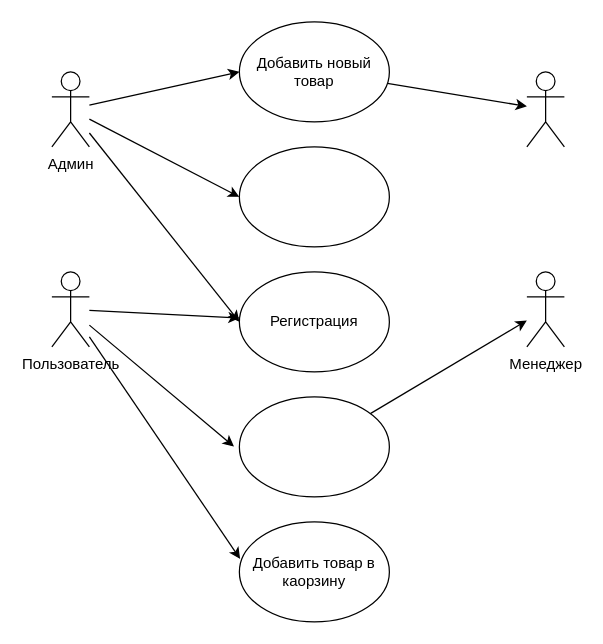
The diagram is 603 pixels wide and 644 high, and some of its shapes have lost their labels. The shapes that lost their labels are listed below. From the top down, each one's centre as x and y in pixels, then its label:
point 545,109: Бухгалтер
point 313,196: Изменить существующий товар
point 313,446: Оформление заказа
